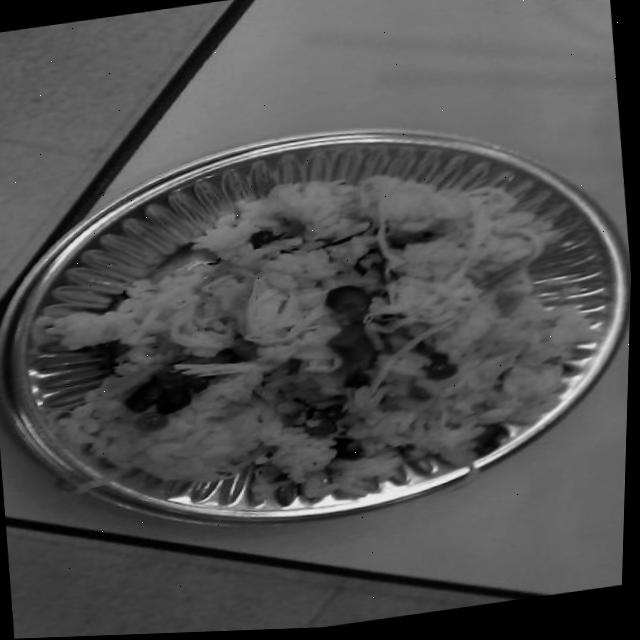寿司卷物: (0, 92, 637, 560)
